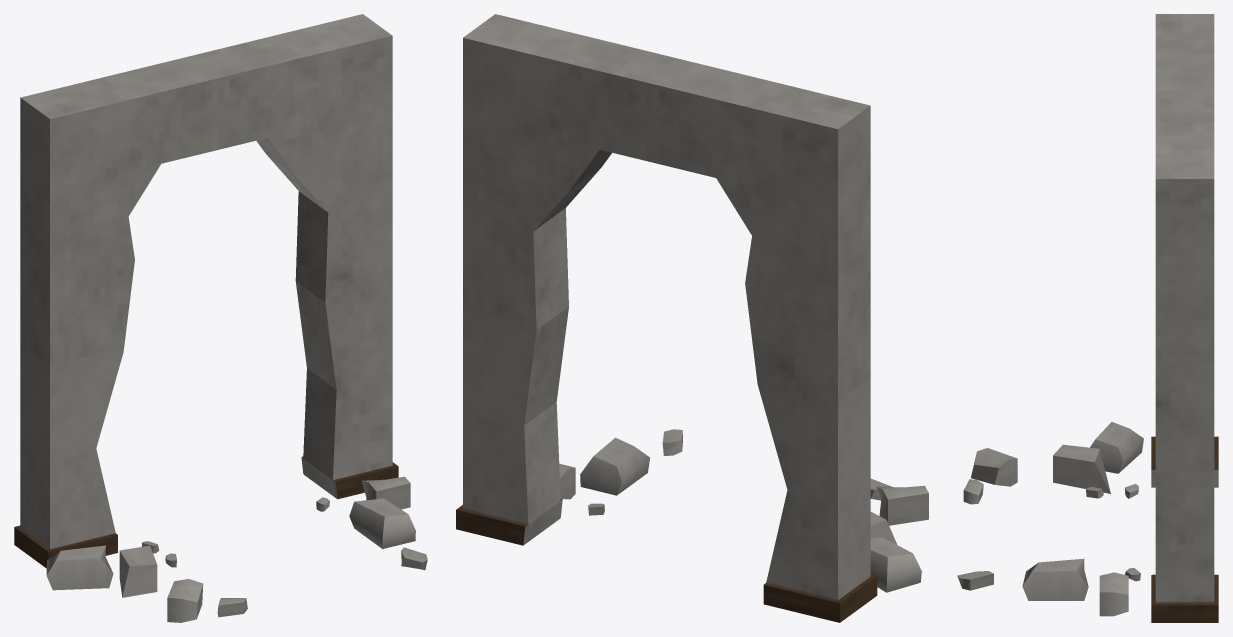
Rendered from SM_WallDestroyed.glb.
3 renders of one model, left to right at view 1: azimuth 30°, elevation 25°; view 2: azimuth 150°, elevation 25°; view 3: azimuth 270°, elevation 25°, orthographic. The views are drawn at different scales.
Parts seen in each view (by area): view 1: SM_WallDestroyed; view 2: SM_WallDestroyed; view 3: SM_WallDestroyed.
Boxes of the visible parts, x1=… form: SM_WallDestroyed: x1=14, y1=14, x2=427, y2=622; SM_WallDestroyed: x1=456, y1=14, x2=928, y2=622; SM_WallDestroyed: x1=957, y1=14, x2=1218, y2=622.
Bounding box in the file's own units: 2.17 × 2.5 × 1.34.
1 material, 1 textured.
